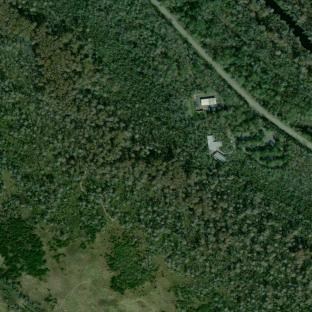Floresta: (0, 0, 312, 312), (16, 0, 312, 238), (159, 0, 312, 132), (182, 89, 227, 137), (276, 0, 312, 42), (0, 0, 0, 0)
